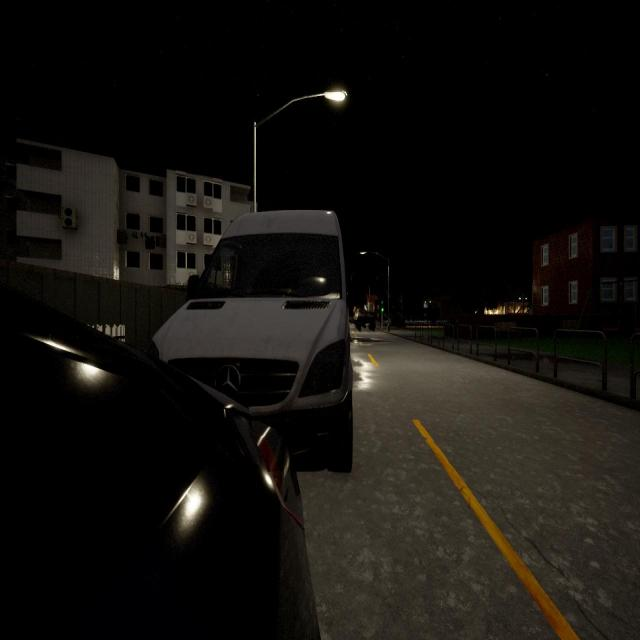Vehicle: (0, 316, 317, 637), (144, 212, 360, 470), (354, 312, 377, 333)
traffic_light: (381, 308, 384, 318)
